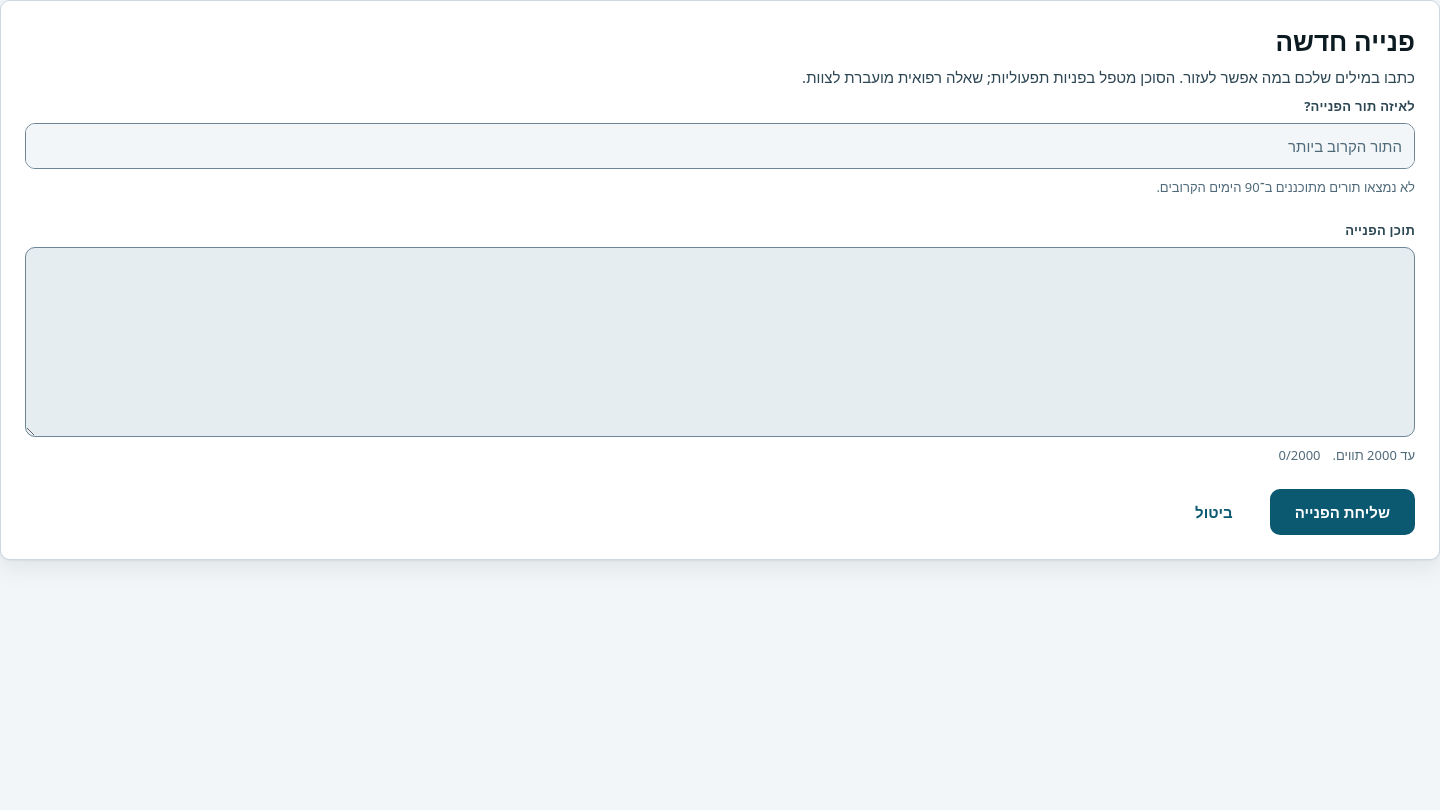
Scenario: NewRequest › counts the characters, up to 2000
Type "שלום" into the text box labelled "תוכן הפנייה" at (720,342), box [26,248,1414,436]
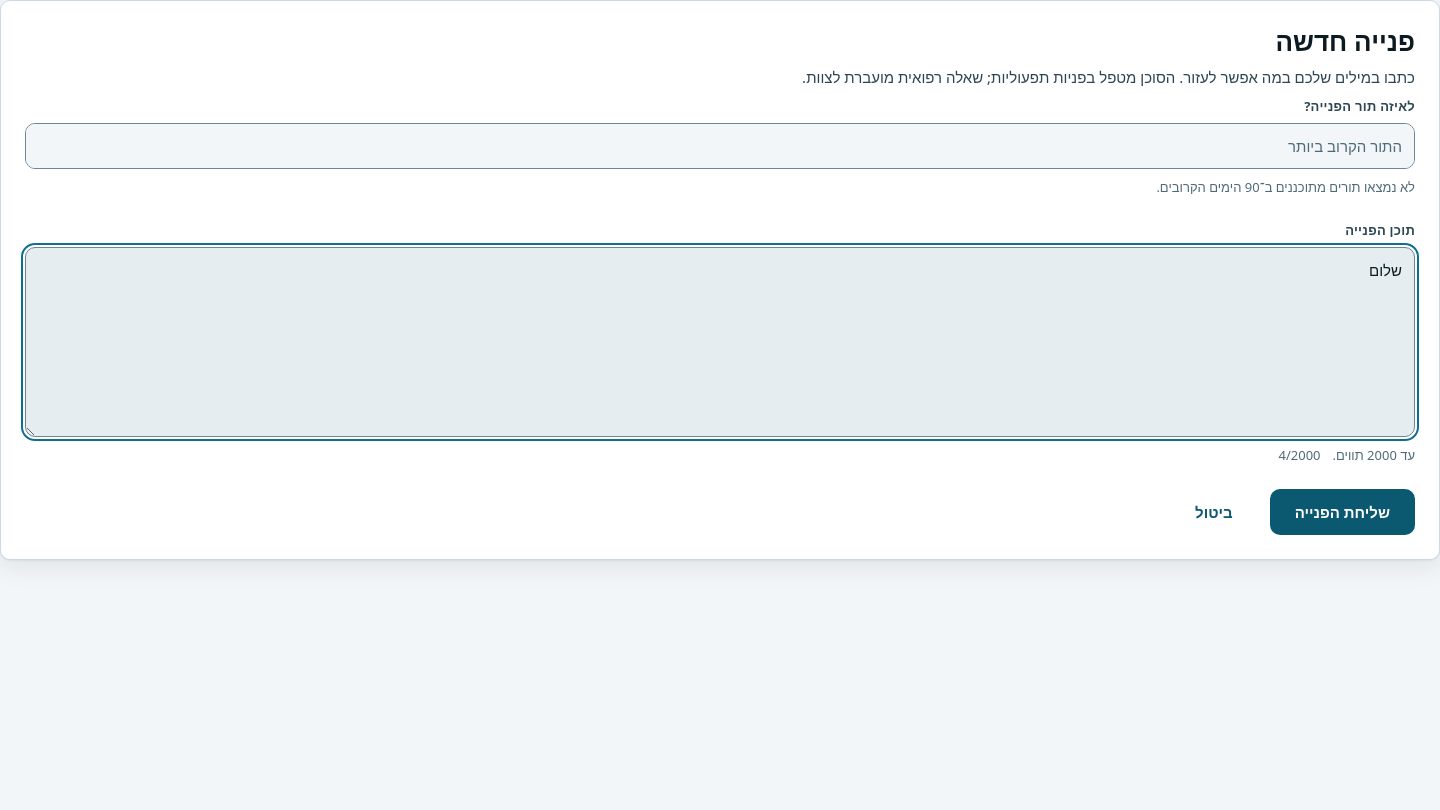
Check: the text "4/2000" is shown, box [1278,445,1320,465]
